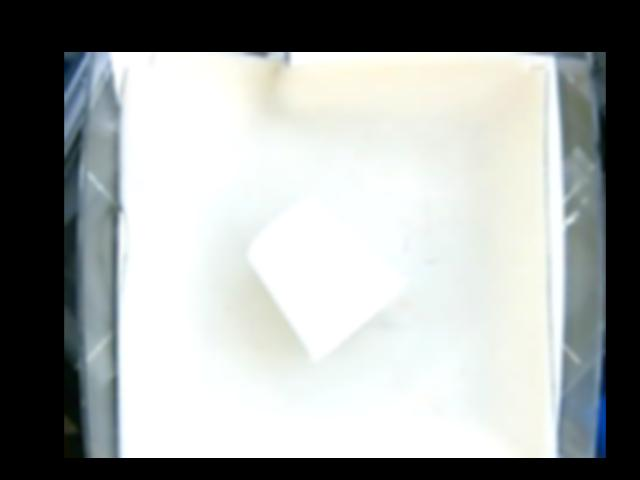Cup: (248, 196, 409, 362)
